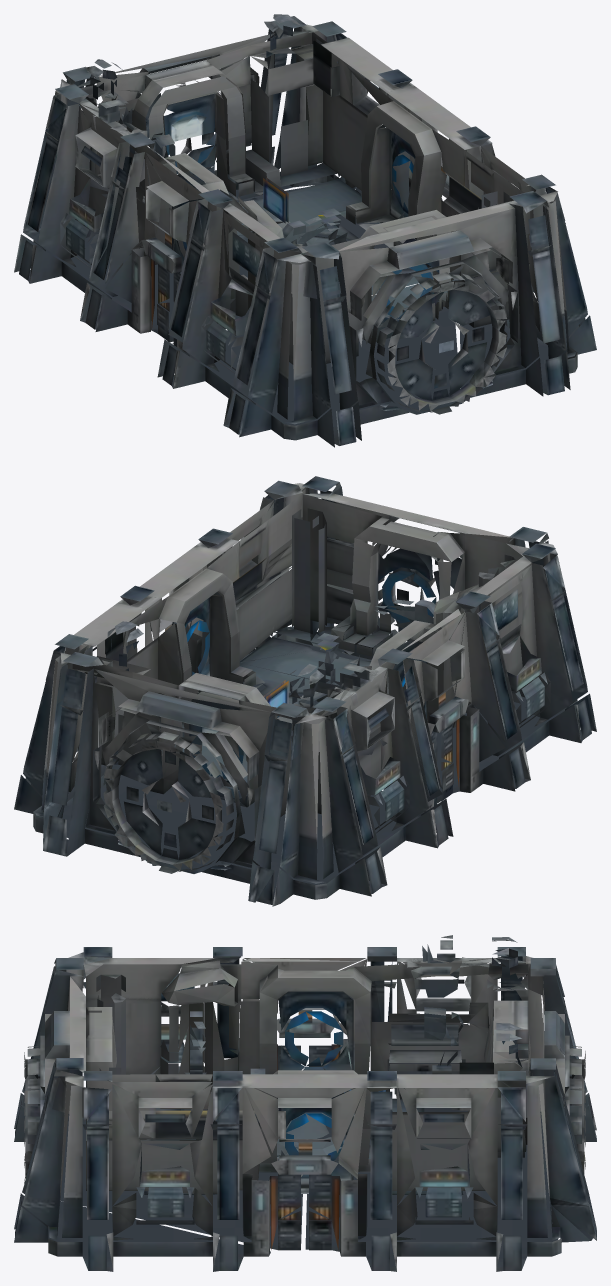
The model's file is arsenal_LOD2.glb.
3 renders of one model, top to bottom at view 1: azimuth 30°, elevation 25°; view 2: azimuth 150°, elevation 25°; view 3: azimuth 270°, elevation 25°, orthographic.
Parts seen in each view (by area): view 1: arsenal_LOD2; view 2: arsenal_LOD2; view 3: arsenal_LOD2.
Part boxes in pixels (x1,y1,x2,y2): arsenal_LOD2: (14,14,596,447); arsenal_LOD2: (14,476,596,906); arsenal_LOD2: (14,935,596,1271).
Size of the model in its own units: 0.6971 by 0.373 by 0.9958.
1 material, 1 textured.
